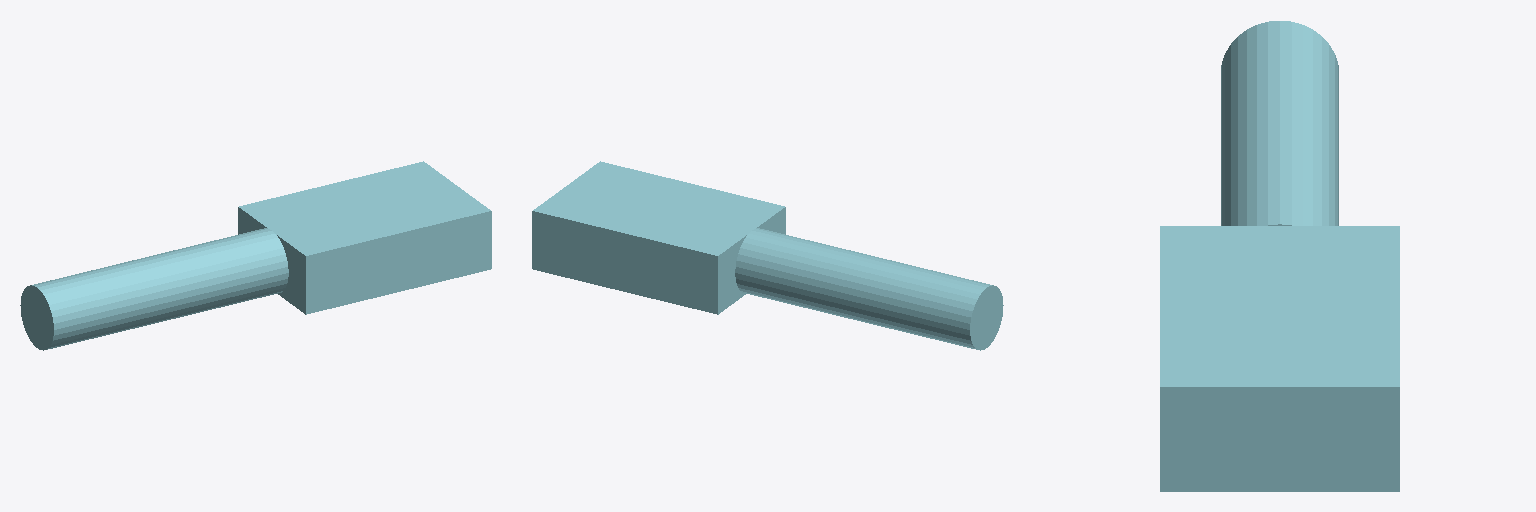
URDF robot description (cylinder_brush_v11007):
<?xml version="1.0"?>
<robot name="cylinder_brush_v11007">

  <link name="cylinder_brush_v11007">
    <!-- Handle -->
    <visual>
      <origin xyz="0 0 0" rpy="0 1.5707963267948966 0"/>
      <geometry>
        <cylinder length="0.14484242195453154" radius="0.017858547831404663"/>
      </geometry>
      <material name="material">
        <color rgba="0.639 0.847 0.882 1.0"/>
      </material>
    </visual>
    <collision>
      <origin xyz="0 0 0" rpy="0 1.5707963267948966 0"/>
      <geometry>
        <cylinder length="0.14484242195453154" radius="0.017858547831404663"/>
      </geometry>
    </collision>

    <!-- Head -->
    <visual>
      <origin xyz="0.1296860467326906 0 0" rpy="0 0 0"/>
      <geometry>
        <box size="0.11452967151084965 0.0723409546225649 0.03452360256767802"/>
      </geometry>
      <material name="material">
        <color rgba="0.639 0.847 0.882 1.0"/>
      </material>
    </visual>
    <collision>
      <origin xyz="0.1296860467326906 0 0" rpy="0 0 0"/>
      <geometry>
        <box size="0.11452967151084965 0.0723409546225649 0.03452360256767802"/>
      </geometry>
    </collision>

    <inertial>
      <density value="400.0"/>
    </inertial>
  </link>

</robot>

--- What the picture shows (computed from the rendered views, not written in the file) ---
The picture shows the robot from 3 angles, left to right: view 1: azimuth 30°, elevation 25°; view 2: azimuth 150°, elevation 25°; view 3: azimuth 270°, elevation 25°; orthographic projection.
Robot: cylinder_brush_v11007 — 1 links, 0 joints (none); root link cylinder_brush_v11007; default pose: every joint at zero.
Links seen in each view (by area): view 1: cylinder_brush_v11007; view 2: cylinder_brush_v11007; view 3: cylinder_brush_v11007.
Boxes of the visible links, x1=… form: cylinder_brush_v11007: x1=20, y1=161, x2=491, y2=350; cylinder_brush_v11007: x1=532, y1=161, x2=1003, y2=350; cylinder_brush_v11007: x1=1160, y1=21, x2=1399, y2=491.
Bounding box of the posed robot: 0.2594 × 0.0723 × 0.0357 m (x, y, z).
Geometry: primitives only (box / cylinder / sphere), no mesh files.
